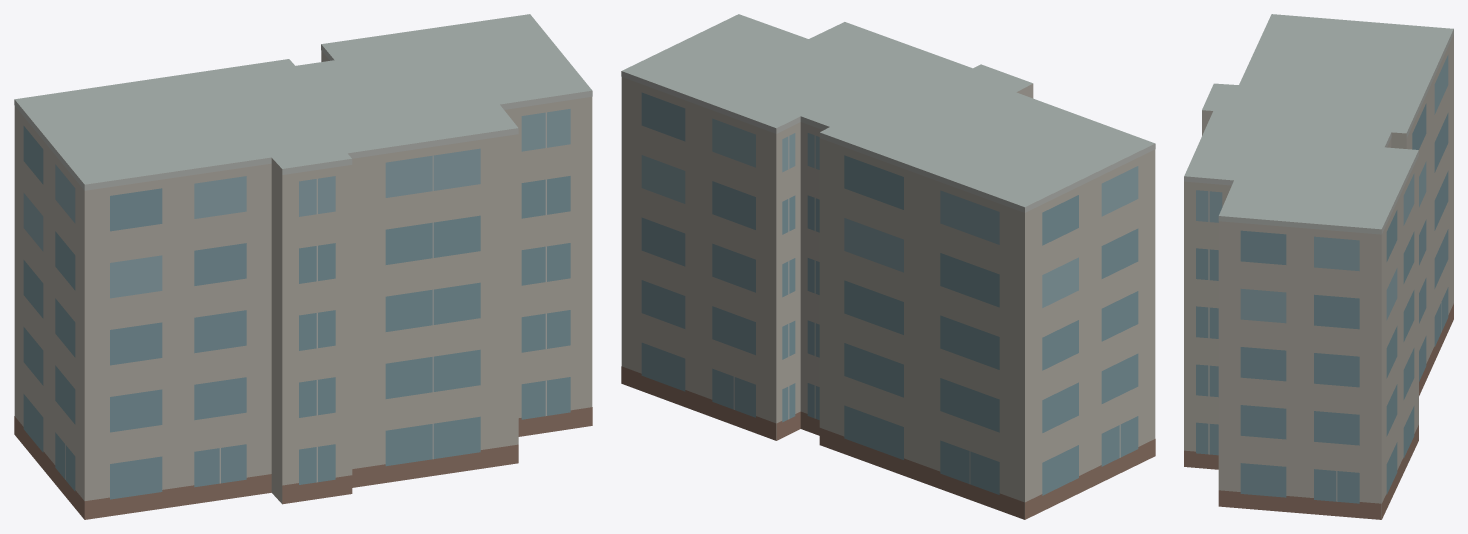
Rendered from survey-upis-33017837.glb.
3 views of the same model, side by side, from view 1: azimuth 30°, elevation 25°; view 2: azimuth 150°, elevation 25°; view 3: azimuth 270°, elevation 25° (orthographic). The views are drawn at different scales.
Visible parts, largest first — view 1: survey-upis-33017837.tmp; view 2: survey-upis-33017837.tmp; view 3: survey-upis-33017837.tmp.
Boxes of the visible parts, <box> form: survey-upis-33017837.tmp: <box>14,14,592,519</box>; survey-upis-33017837.tmp: <box>621,14,1155,519</box>; survey-upis-33017837.tmp: <box>1184,14,1453,519</box>.
Size of the model in its own units: 21.31 by 13.4 by 11.28.
